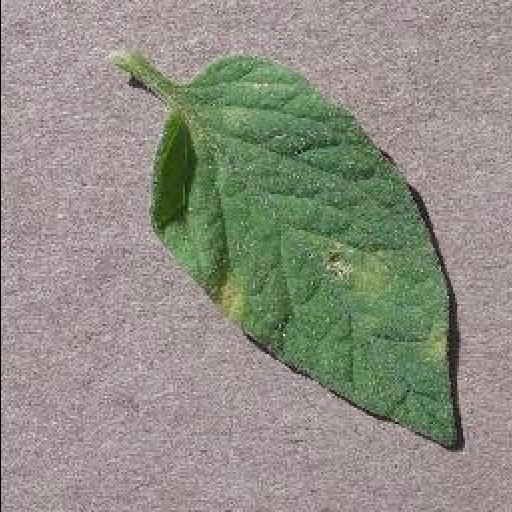disease_tomato: (148, 52, 460, 452)
